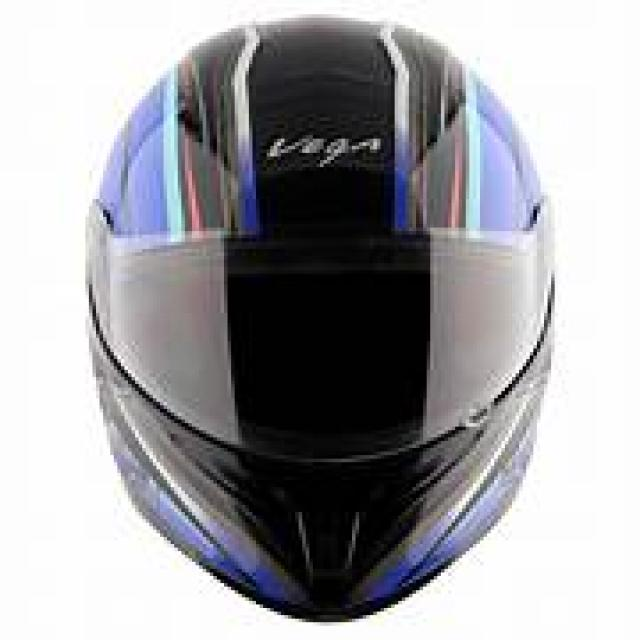helmet: (89, 18, 551, 608)
